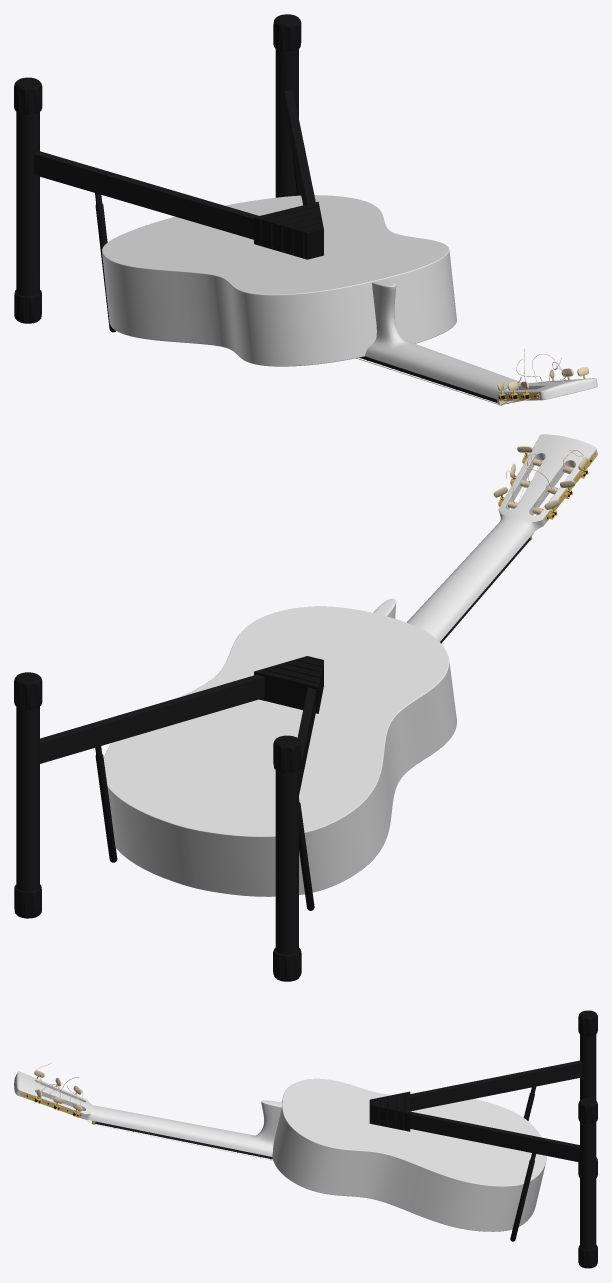
File: guitar.fbx
3 views of the same model, one above another, from view 1: azimuth 30°, elevation 25°; view 2: azimuth 150°, elevation 25°; view 3: azimuth 270°, elevation 25° (orthographic). The views are drawn at different scales.
Visible parts, largest first — view 1: Body, Stand, Neck, Tuning keys, Fingerboard; view 2: Body, Stand, Neck, Tuning keys; view 3: Body, Stand, Neck, Tuning keys, Fingerboard.
Boxes of the visible parts, box(x1,y1,x2,y2) form: Body: box(102, 195, 456, 366); Stand: box(14, 14, 323, 332); Neck: box(365, 279, 597, 401); Tuning keys: box(497, 367, 588, 400); Fingerboard: box(359, 356, 497, 402); Body: box(103, 606, 456, 896); Stand: box(14, 656, 323, 981); Neck: box(373, 434, 597, 641); Tuning keys: box(493, 442, 596, 520); Body: box(272, 1078, 546, 1231); Stand: box(369, 1010, 597, 1268); Neck: box(14, 1071, 281, 1156); Tuning keys: box(20, 1070, 82, 1117); Fingerboard: box(95, 1121, 272, 1159).
Size of the model in its own units: 41.6 by 33.16 by 107.
